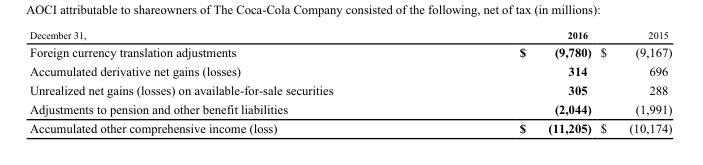table: (28, 28, 671, 134)
table column: (28, 28, 425, 134), (425, 28, 595, 134), (595, 28, 671, 134)
table column header: (28, 28, 671, 42)
table row: (28, 42, 671, 61), (28, 61, 671, 80), (28, 98, 671, 117), (28, 80, 671, 98), (28, 117, 671, 134), (28, 28, 671, 42)
